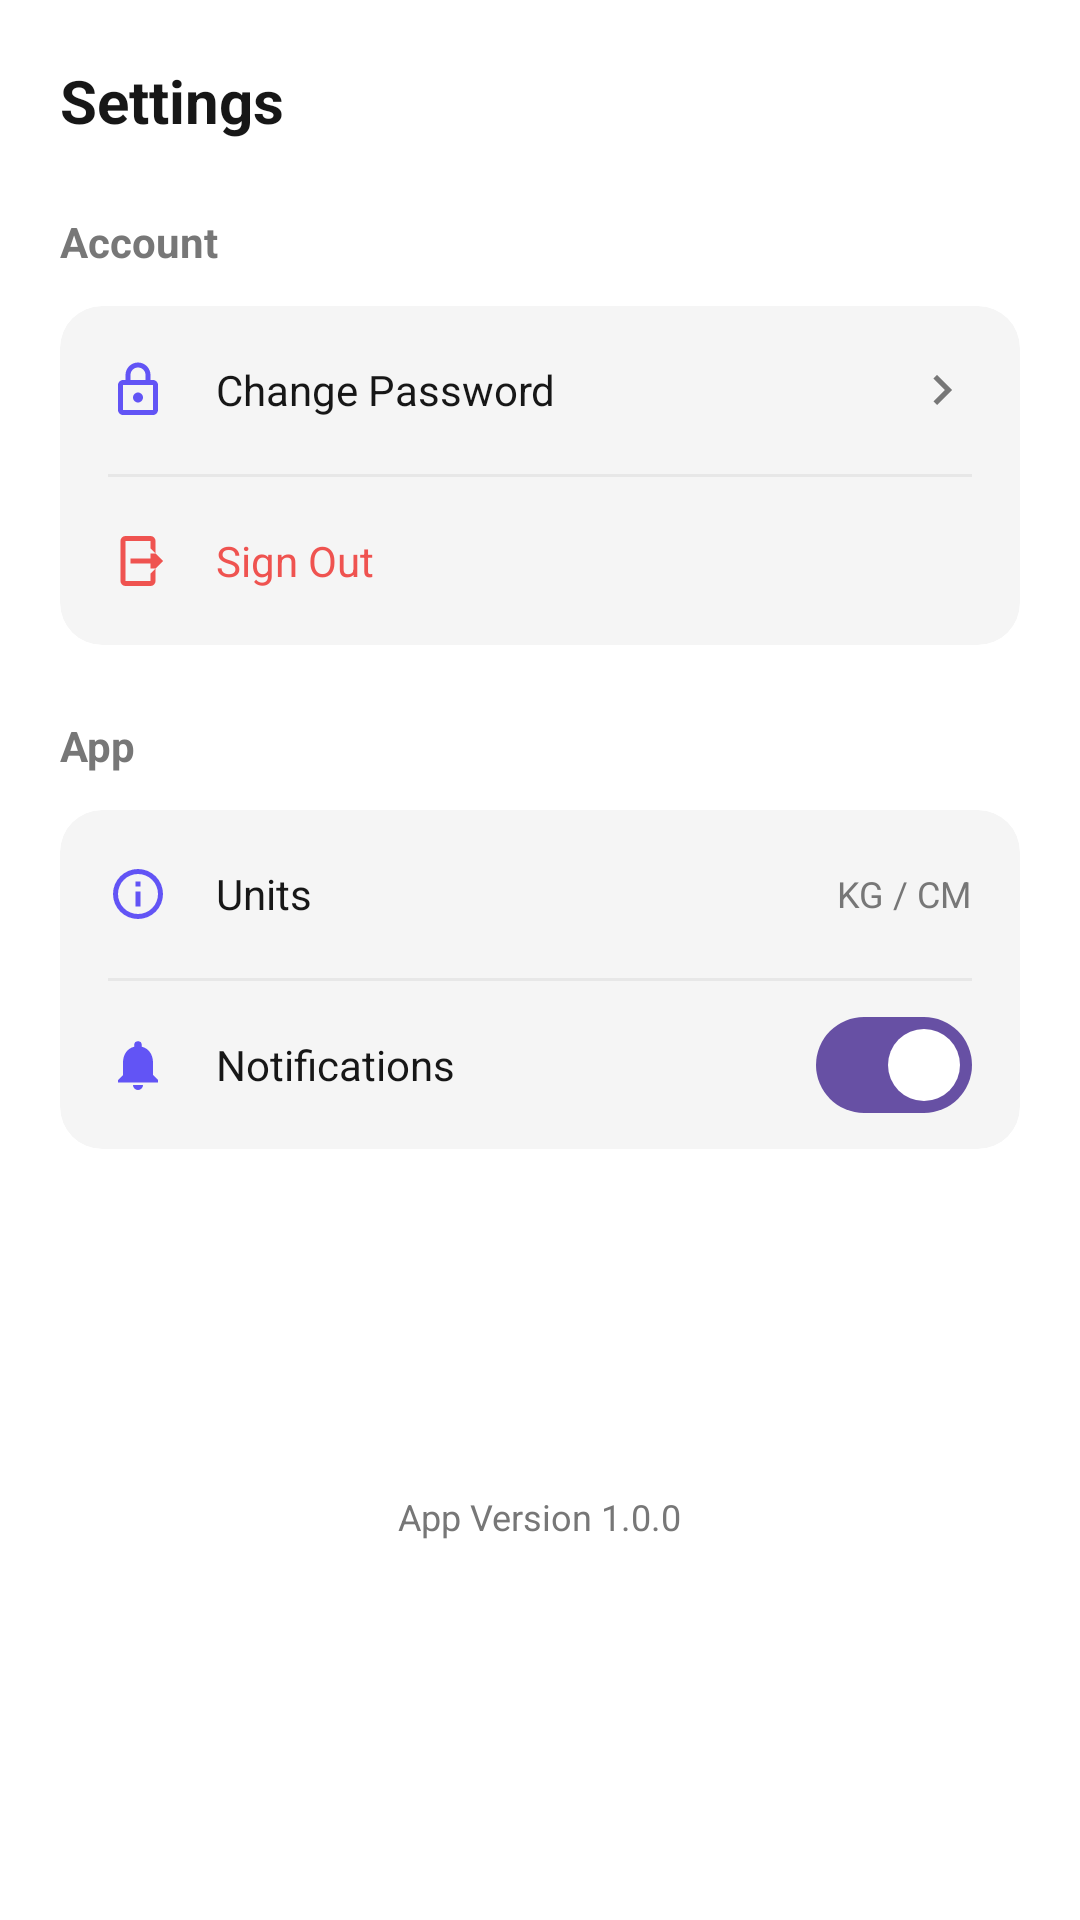

Named icons in this screenshot (1080w x 1920h) and their bounding boxes, {"x1": x1, "y1": y1, "x2": x2, "y2": y2}:
arrow right: {"x1": 933, "y1": 375, "x2": 952, "y2": 405}
info: {"x1": 113, "y1": 869, "x2": 163, "y2": 919}
lock: {"x1": 118, "y1": 362, "x2": 158, "y2": 415}
